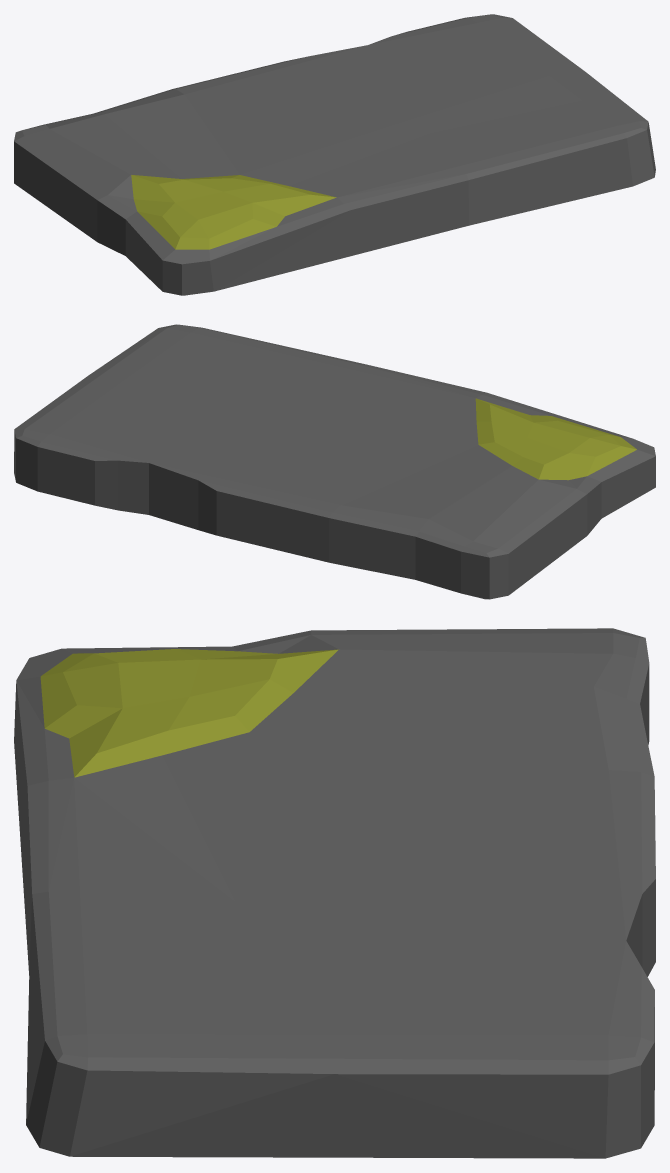
The model's file is tile_moss_type_4_LOD1.fbx.
3 renders of one model, top to bottom at view 1: azimuth 30°, elevation 25°; view 2: azimuth 150°, elevation 25°; view 3: azimuth 270°, elevation 25°, orthographic. The views are drawn at different scales.
Parts seen in each view (by area): view 1: tile_moss_type_4; view 2: tile_moss_type_4; view 3: tile_moss_type_4.
Boxes of the visible parts, x1,y1,x2,y2 form: tile_moss_type_4: (14, 14, 655, 295); tile_moss_type_4: (14, 324, 655, 599); tile_moss_type_4: (14, 628, 655, 1158).
Bounding box in the file's own units: 200 × 22.04 × 120.
